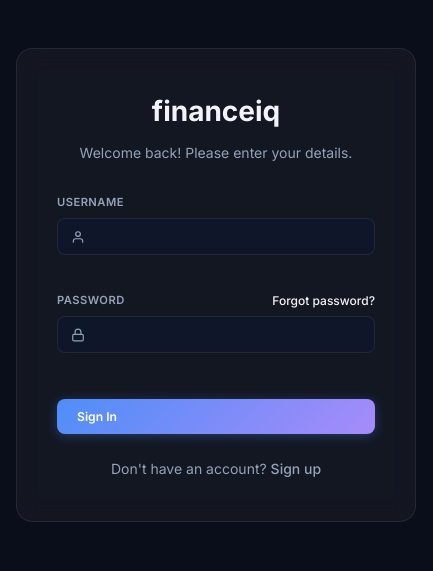
SignIn › shows error message on failure
Type "wrong" into the field labelled "Username" at (216, 237), box [57,218,375,255]
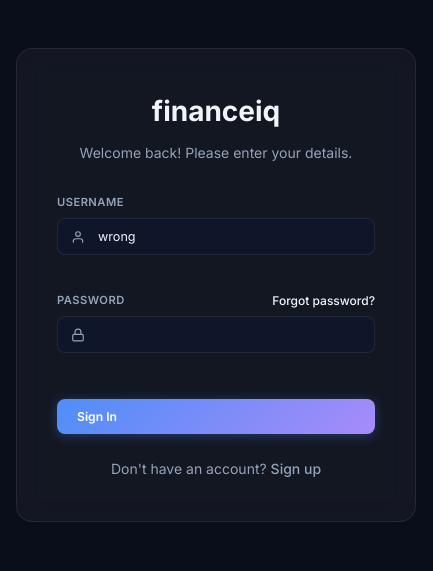
Type "wrong" into the password field labelled "Password" at (216, 335), box [57,316,375,354]
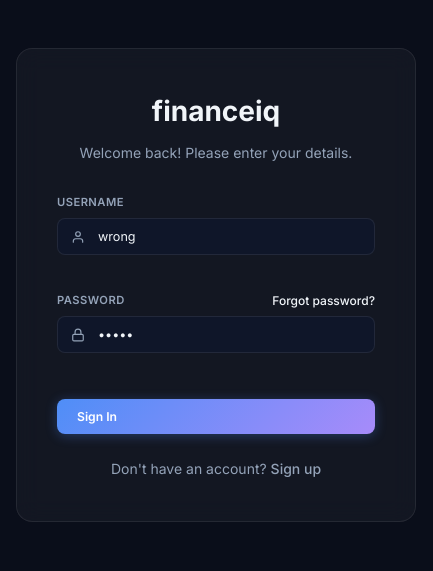
Click the button "Sign In" at (97, 417), box [57,400,375,434]
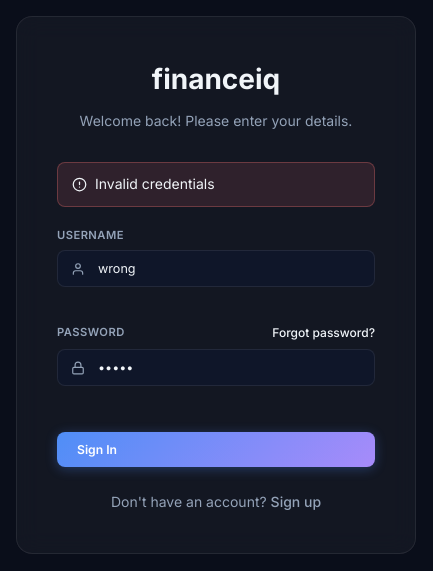
Expected: the text "Invalid credentials" is shown, [57,162,375,206]
